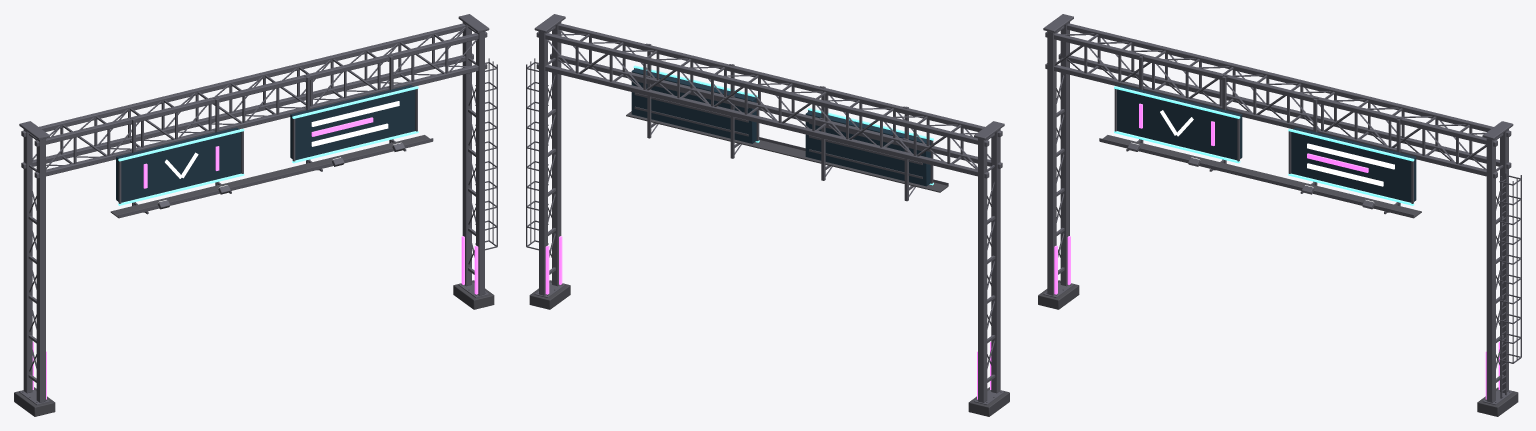
The model's file is gantry.glb.
3 renders of one model, left to right at view 1: azimuth 30°, elevation 25°; view 2: azimuth 150°, elevation 25°; view 3: azimuth 330°, elevation 25°, orthographic.
Parts seen in each view (by area): view 1: gantry; view 2: gantry; view 3: gantry.
Part boxes in pixels (x1,y1,x2,y2): gantry: (14,14,497,416); gantry: (526,14,1009,416); gantry: (1038,14,1521,416).
Size of the model in its own units: 24.79 by 14.02 by 3.6.
